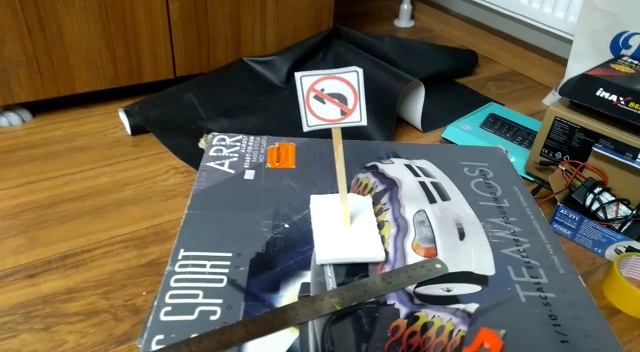sola_donulmez: (298, 71, 362, 125)
